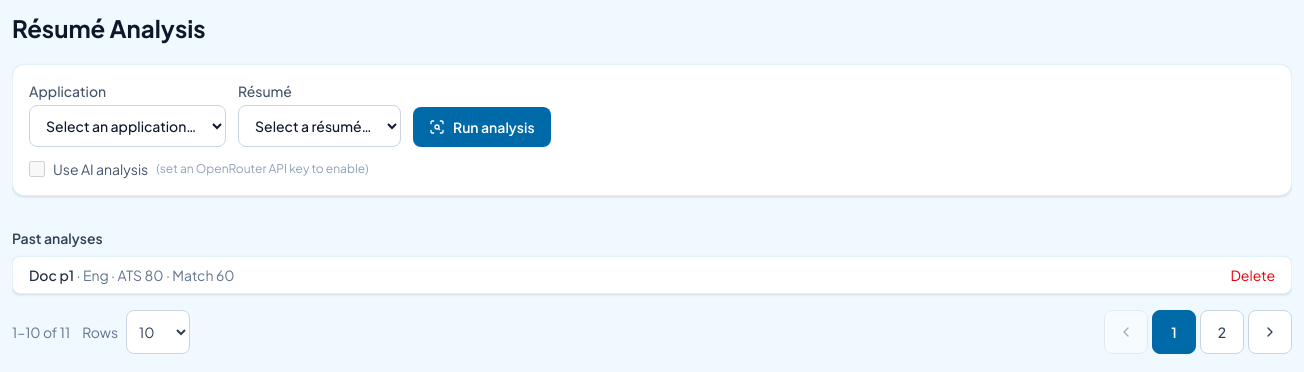
it: deleting the last row on the last page steps back a page
The image size is (1304, 372).
Check: the text "Doc p1" is shown, box [29,266,74,284]
Step 1. Click the button named "Page 2" → (1222, 332), box [1200,310,1244,354]
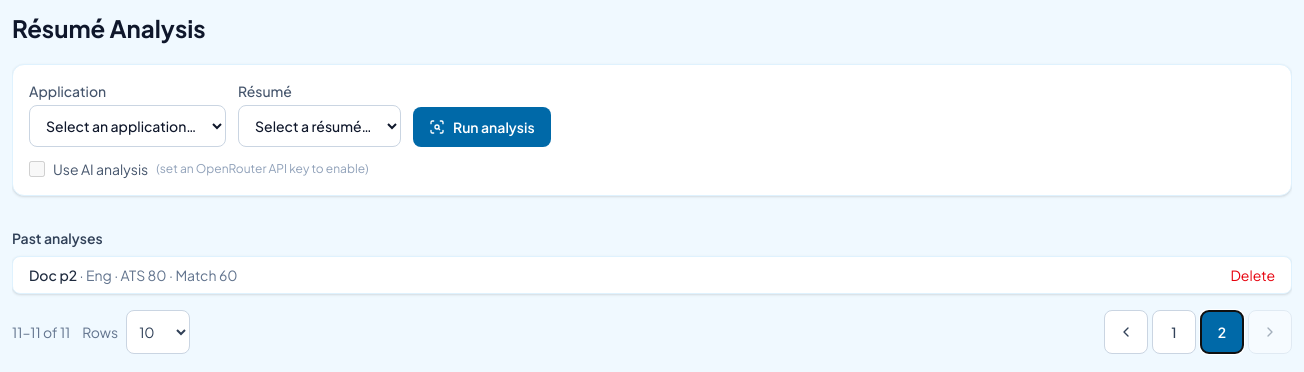
Check: the text "Doc p2" is shown, box [29,266,77,284]
Step 2. Click the button with aria-label "delete analysis of doc p2" → (1253, 275), box [1230,265,1275,285]
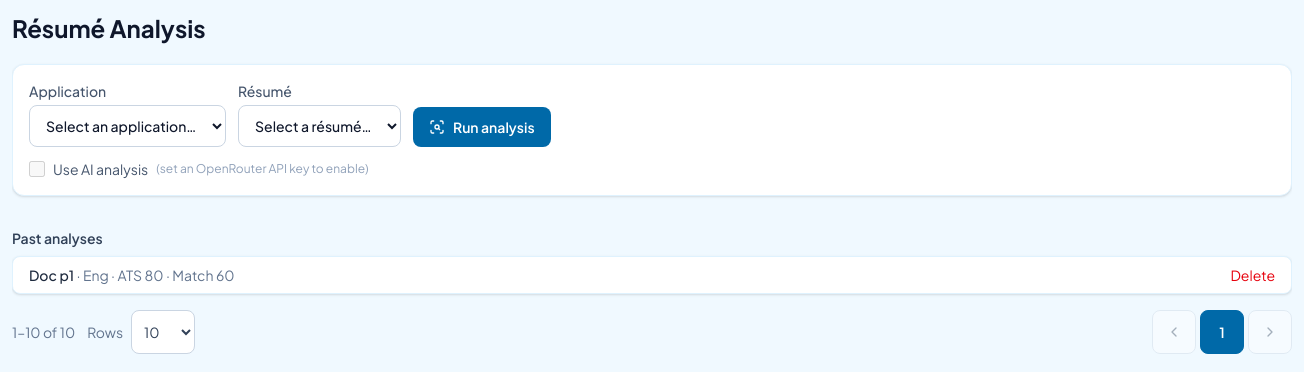
Check: the text "Doc p1" is shown, box [29,266,74,284]
Check: the text "1–10 of 10" is shown, box [12,322,75,342]
